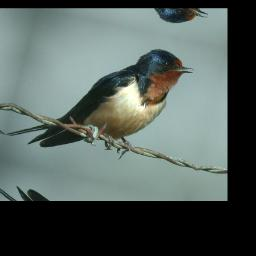Swallow: (4, 22, 198, 175)
